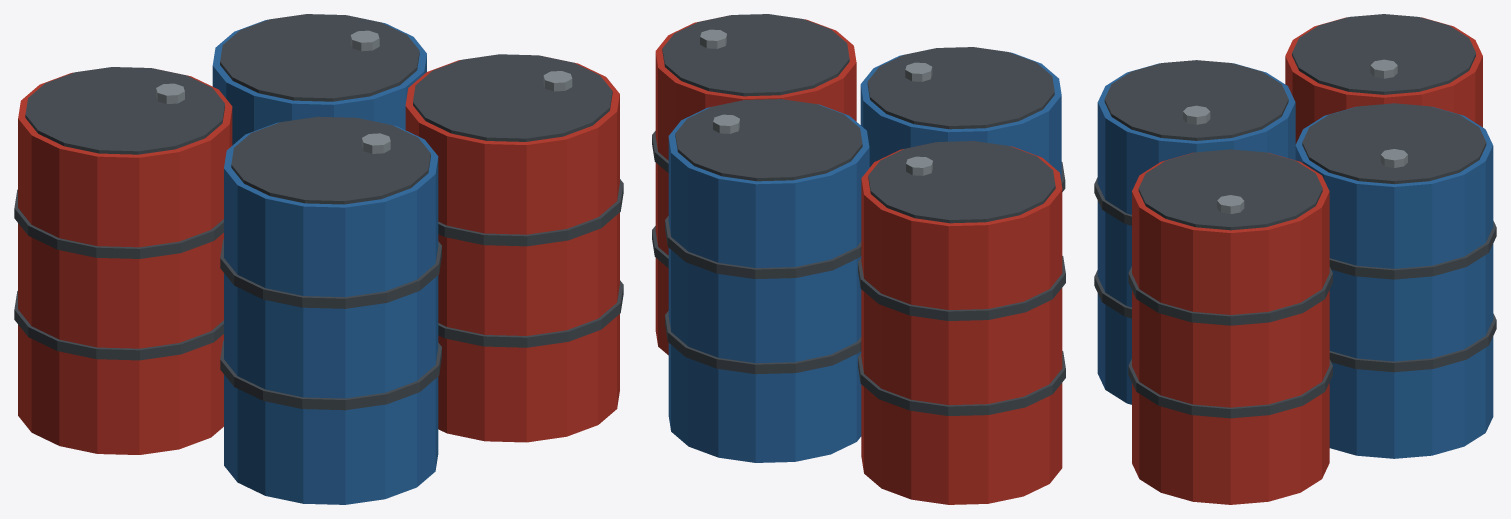
Rendered from Barrels.fbx.
3 renders of one model, left to right at view 1: azimuth 30°, elevation 25°; view 2: azimuth 150°, elevation 25°; view 3: azimuth 270°, elevation 25°, orthographic. The views are drawn at different scales.
Parts seen in each view (by area): view 1: Barrels; view 2: Barrels; view 3: Barrels.
Part boxes in pixels (x1,y1,x2,y2): Barrels: [14, 14, 623, 504]; Barrels: [652, 14, 1065, 504]; Barrels: [1094, 14, 1496, 504].
Size of the model in its own units: 1.54 by 0.915 by 1.18.
